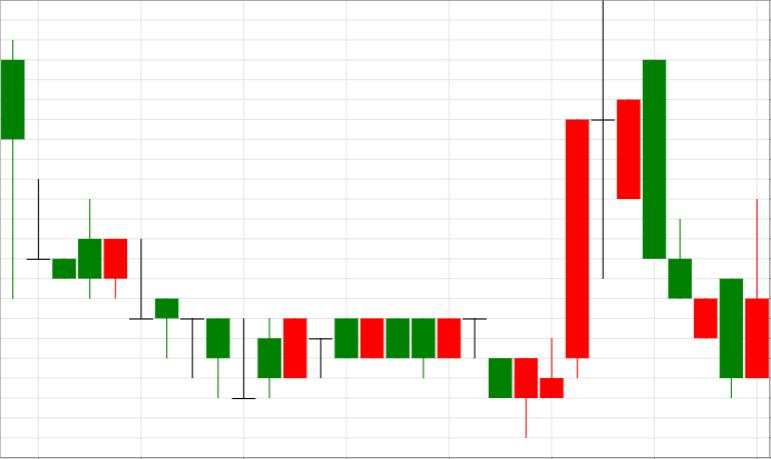bearish_engulfing_fall: (514, 0, 666, 438)
